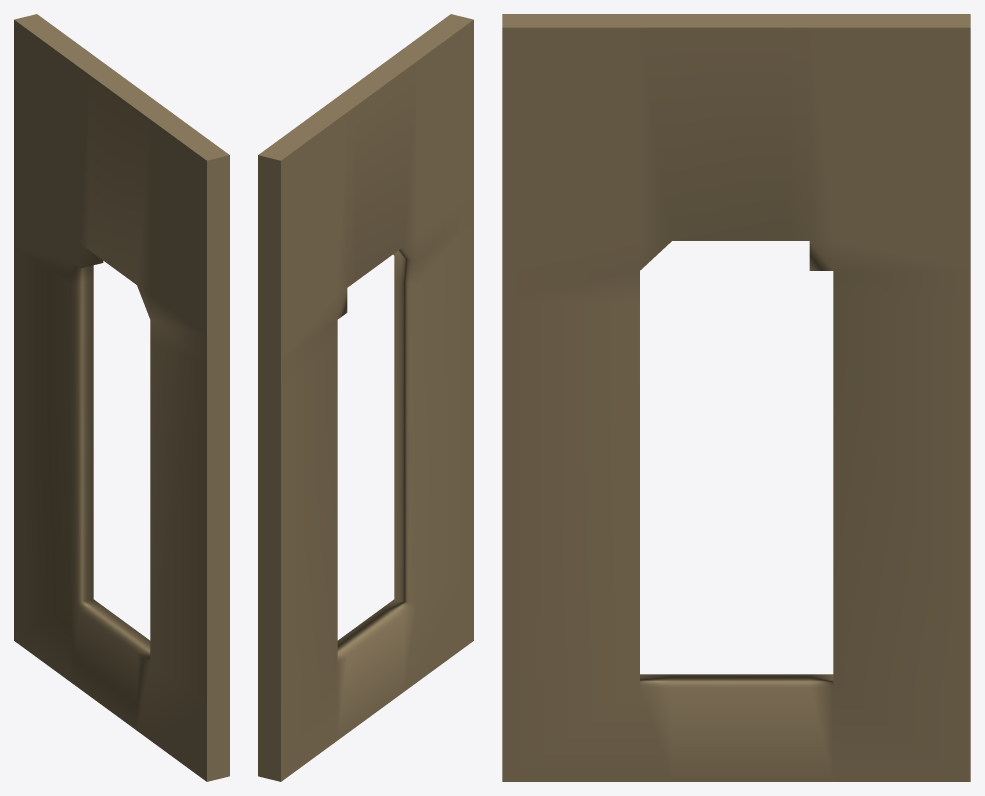
Rendered from Wall_N04_Window.fbx.
The picture shows the model from 3 angles, left to right: view 1: azimuth 30°, elevation 25°; view 2: azimuth 150°, elevation 25°; view 3: azimuth 270°, elevation 25°; orthographic projection. The views are drawn at different scales.
Parts seen in each view (by area): view 1: Wall_N04_Window; view 2: Wall_N04_Window; view 3: Wall_N04_Window.
Boxes of the visible parts, x1=… form: Wall_N04_Window: x1=14, y1=14, x2=229, y2=781; Wall_N04_Window: x1=258, y1=14, x2=473, y2=781; Wall_N04_Window: x1=502, y1=14, x2=970, y2=781.
Size of the model in its own units: 22.19 by 572 by 322.
